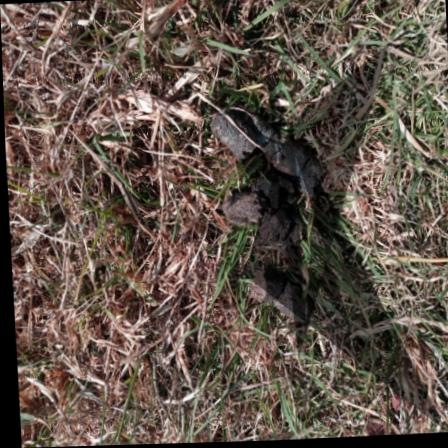dog-poop: (204, 104, 331, 331)
